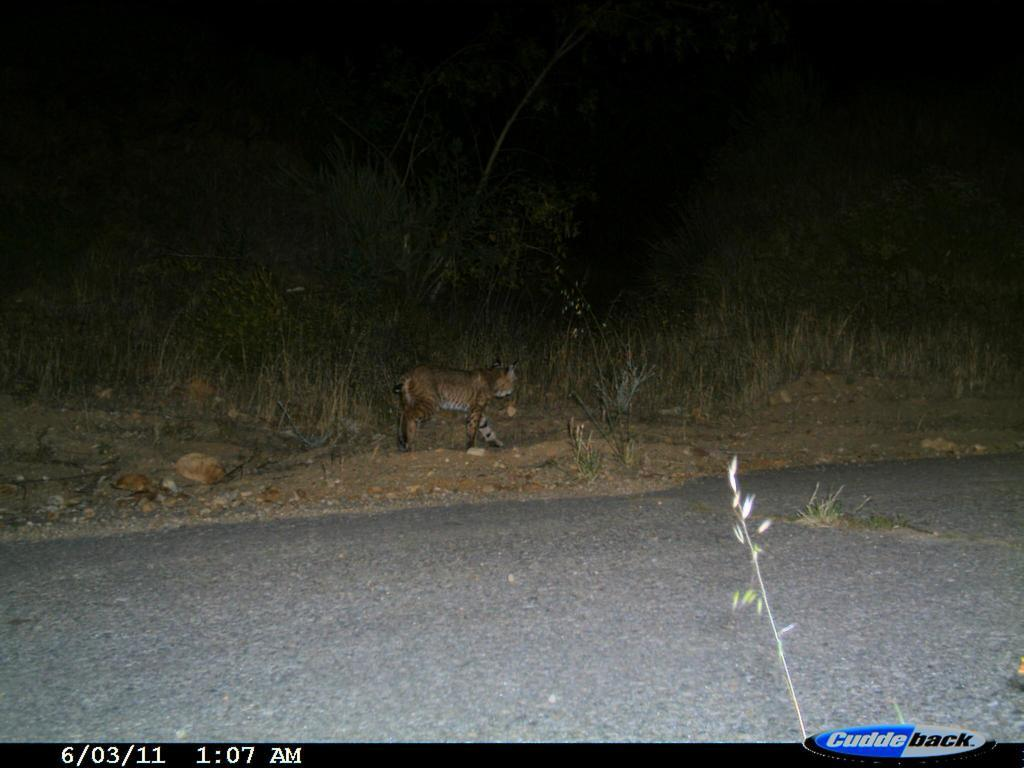bobcat: (391, 360, 528, 457)
